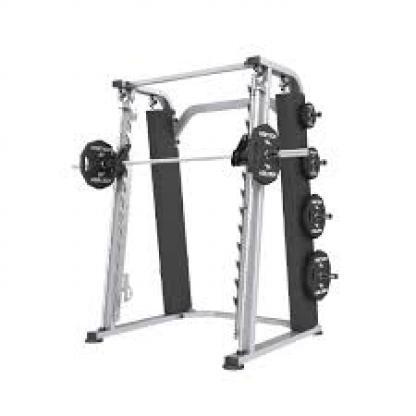smith machine: (71, 55, 339, 372)
